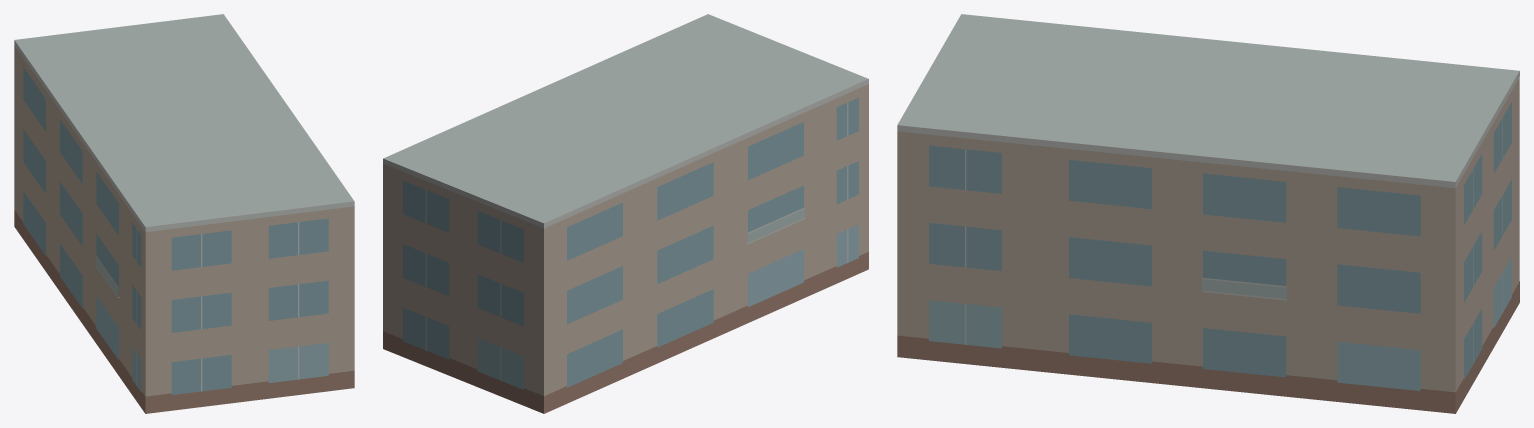
Rendered from survey-upis-32993966.glb.
The picture shows the model from 3 angles, left to right: view 1: azimuth 30°, elevation 25°; view 2: azimuth 150°, elevation 25°; view 3: azimuth 270°, elevation 25°; orthographic projection. The views are drawn at different scales.
Visible parts, largest first — view 1: survey-upis-32993966.tmp; view 2: survey-upis-32993966.tmp; view 3: survey-upis-32993966.tmp.
Boxes of the visible parts, box(x1,y1,x2,y2) form: survey-upis-32993966.tmp: box(14, 14, 354, 413); survey-upis-32993966.tmp: box(383, 14, 868, 413); survey-upis-32993966.tmp: box(897, 14, 1519, 413).
Bounding box in the file's own units: 14.22 × 9.15 × 22.27.
